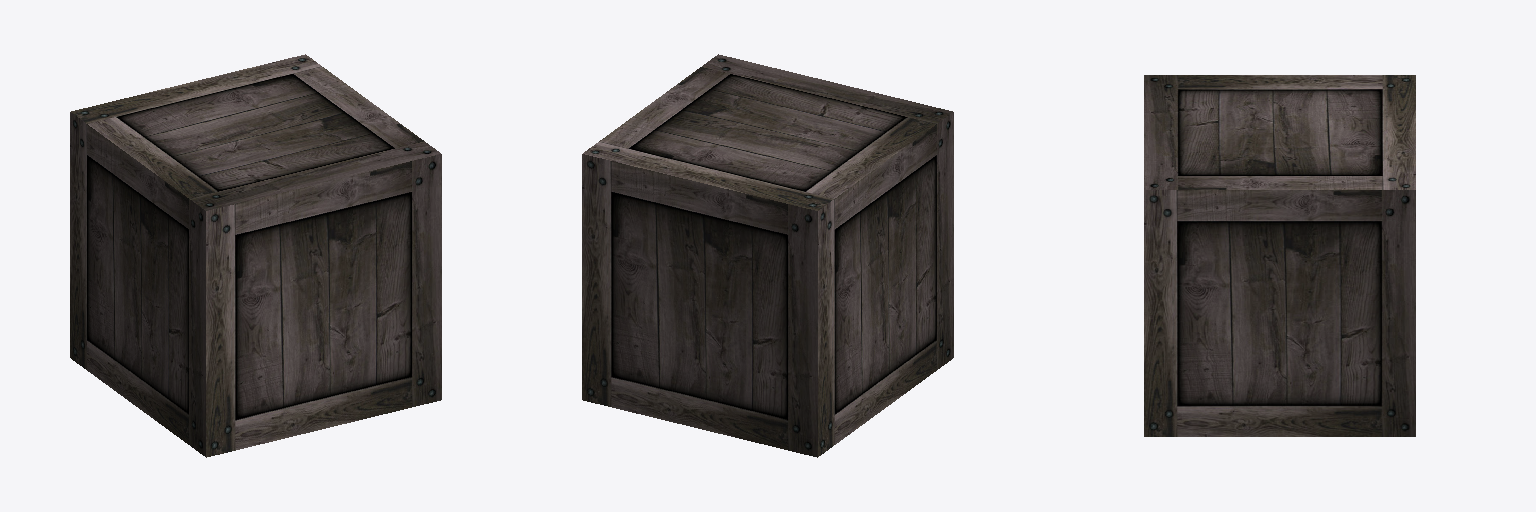
3 renders of one model, left to right at view 1: azimuth 30°, elevation 25°; view 2: azimuth 150°, elevation 25°; view 3: azimuth 270°, elevation 25°, orthographic.
Visible parts, largest first — view 1: Cube_Cube.001; view 2: Cube_Cube.001; view 3: Cube_Cube.001.
Boxes of the visible parts, x1,y1,x2,y2 form: Cube_Cube.001: [70, 54, 441, 457]; Cube_Cube.001: [582, 54, 953, 457]; Cube_Cube.001: [1144, 75, 1415, 436].
Size of the model in its own units: 2 by 2 by 2.
Materials: 1 (1 with a texture image).